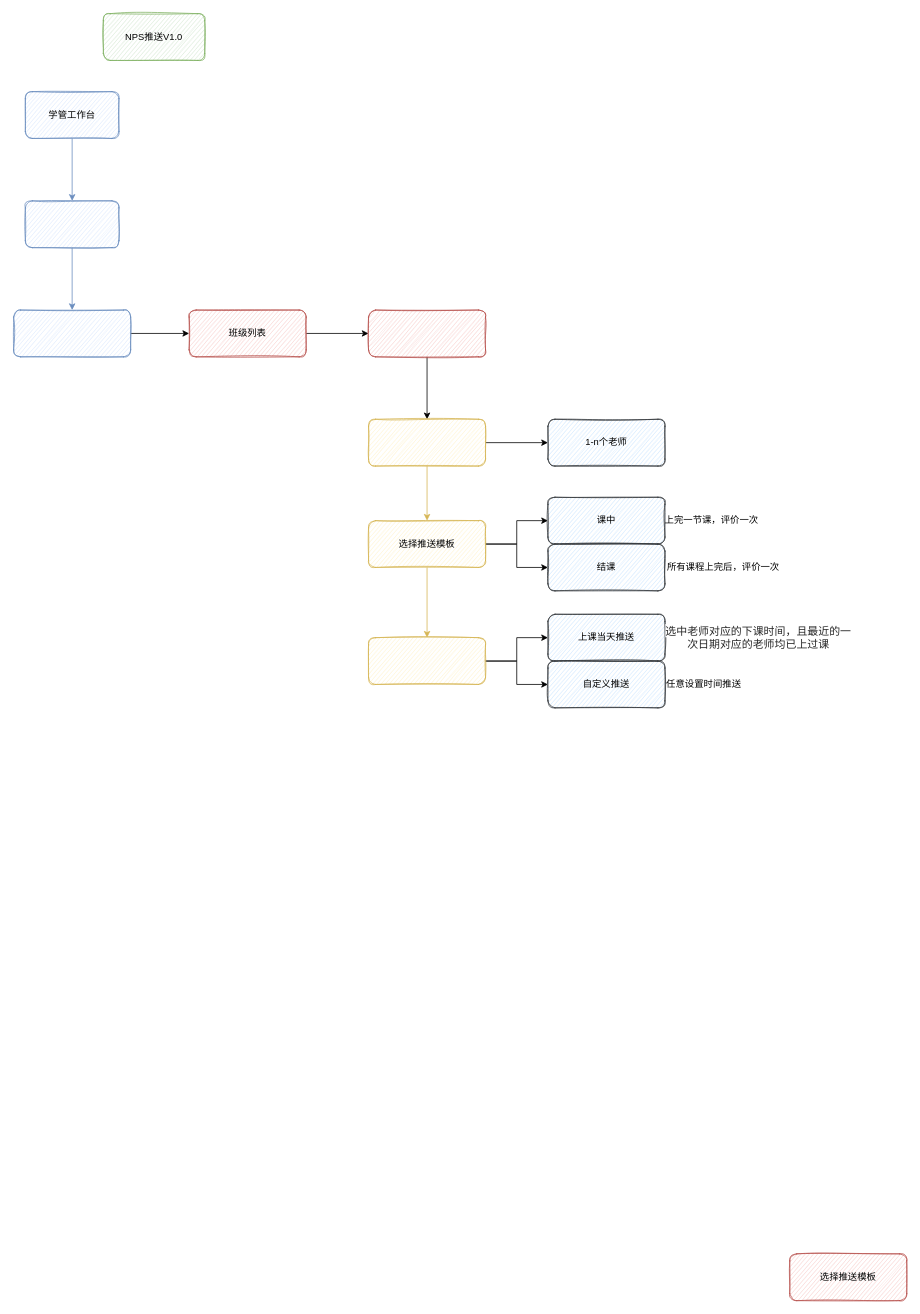
This 920x1314 diagram has some shape labels left out. Here are the shapes that lost their labels. From the top down, the box of each, then its label:
(25, 200, 119, 248): 学管
(13, 309, 131, 357): 评价问卷配置
(368, 309, 486, 357): 配置push提醒
(368, 418, 486, 466): 选择被评价的授课老师
(368, 637, 486, 684): 选择推送日期及时间
